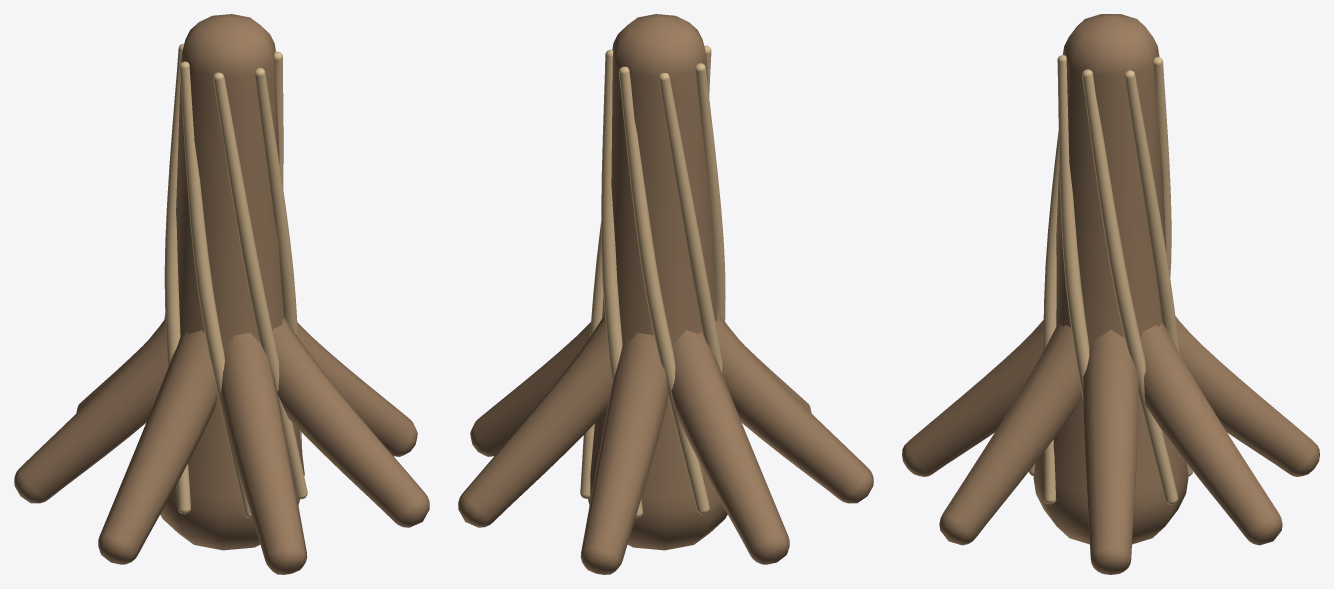
Rendered from rainforest-and-jungle-fauna-strangler-fig-column-0e916405__21698.glb.
3 views of the same model, side by side, from view 1: azimuth 30°, elevation 25°; view 2: azimuth 150°, elevation 25°; view 3: azimuth 270°, elevation 25° (orthographic).
Parts seen in each view (by area): view 1: strangler-fig-column; view 2: strangler-fig-column; view 3: strangler-fig-column.
Boxes of the visible parts, box(x1,y1,x2,y2) form: strangler-fig-column: box(14, 14, 429, 574); strangler-fig-column: box(458, 14, 873, 574); strangler-fig-column: box(902, 14, 1319, 574).
Bounding box in the file's own units: 1.95 × 2.77 × 2.
